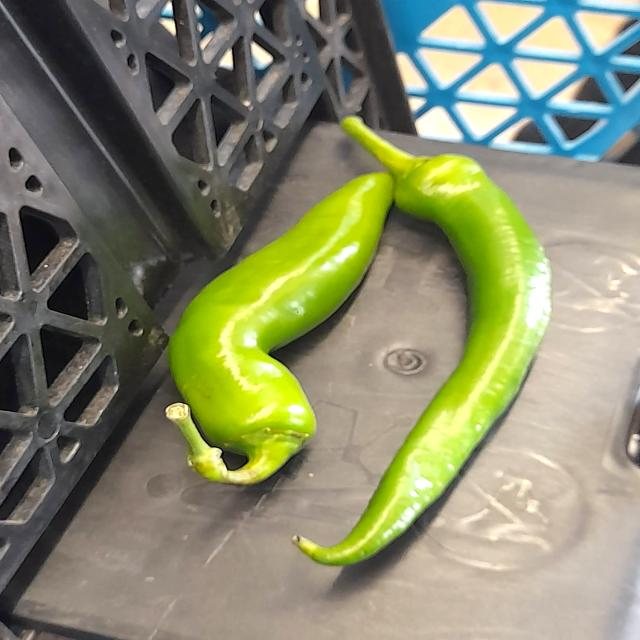green pepper: (284, 116, 560, 576), (164, 151, 425, 494)
